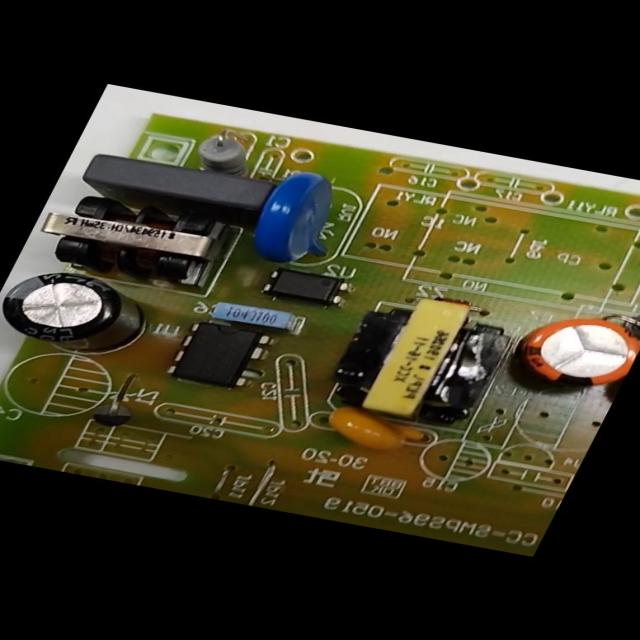Cap1: (515, 310, 639, 391)
Cap3: (0, 263, 162, 355)
MOSFET: (167, 320, 272, 390)
Mov: (235, 166, 358, 262)
Resistor: (191, 126, 263, 174)
Transformer: (328, 293, 516, 425), (30, 190, 222, 279)
